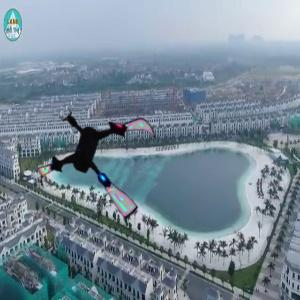drone: (37, 98, 167, 228)
